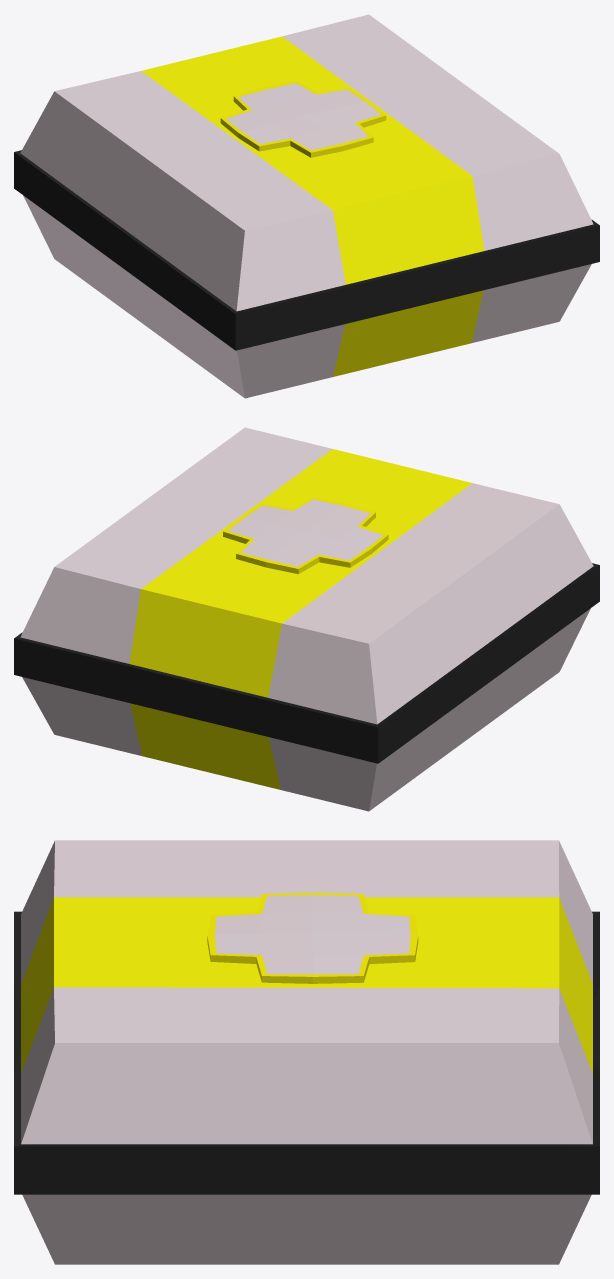
Rendered from medikit1.fbx.
The picture shows the model from 3 angles, top to bottom: view 1: azimuth 30°, elevation 25°; view 2: azimuth 150°, elevation 25°; view 3: azimuth 270°, elevation 25°; orthographic projection. The views are drawn at different scales.
Visible parts, largest first — view 1: Cube; view 2: Cube; view 3: Cube.
Part boxes in pixels (bbox=[...]): Cube: bbox=[14, 14, 599, 398]; Cube: bbox=[14, 427, 599, 811]; Cube: bbox=[14, 840, 599, 1264].
Bounding box in the file's own units: 262 × 119 × 276.
